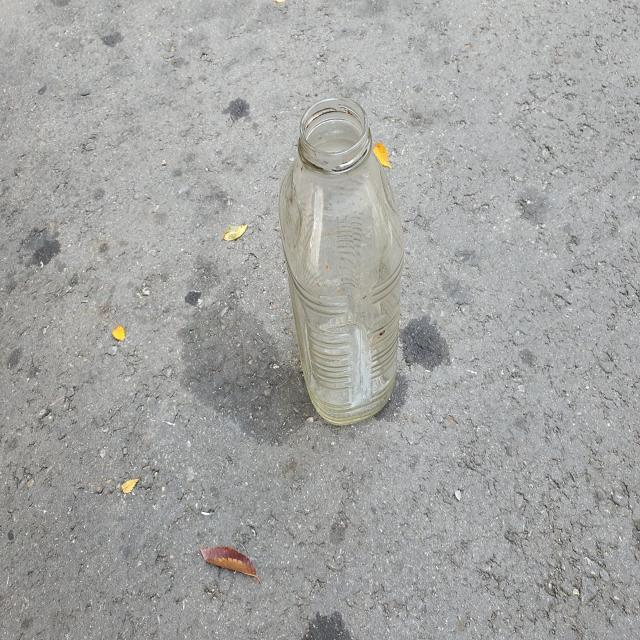glass: (279, 97, 404, 425)
